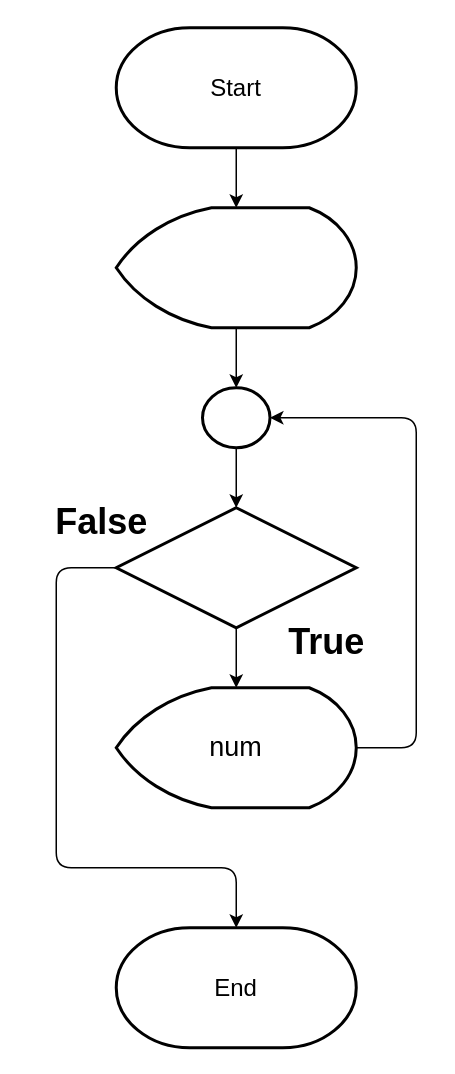
Image size: 455x1074. Some labels were removed from this diagram. The box of each missing label's shape, as (x1, y1, x2, y2) in pixels:
I will display the odd number: (114, 206, 357, 328)
num in [1,3,5,7,9]: (114, 506, 357, 628)
